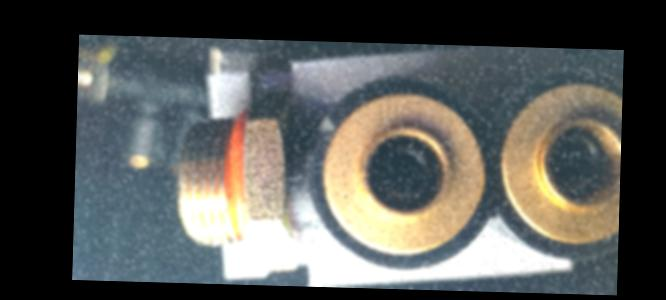bump: (308, 113, 337, 155)
white mark: (284, 176, 301, 188)
